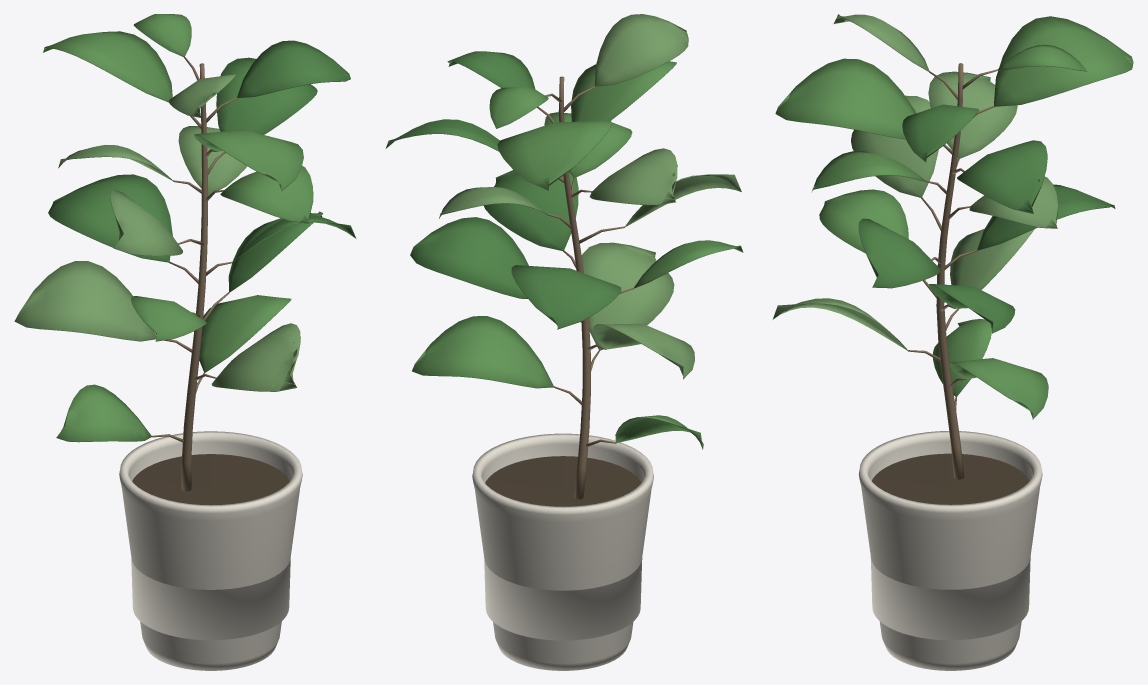
File: BroadleafTall.fbx
3 renders of one model, left to right at view 1: azimuth 30°, elevation 25°; view 2: azimuth 150°, elevation 25°; view 3: azimuth 270°, elevation 25°, orthographic.
Parts seen in each view (by area): view 1: BroadleafTall; view 2: BroadleafTall; view 3: BroadleafTall.
Boxes of the visible parts, x1=… form: BroadleafTall: x1=14, y1=14, x2=356, y2=670; BroadleafTall: x1=385, y1=14, x2=743, y2=670; BroadleafTall: x1=772, y1=14, x2=1133, y2=670.
Size of the model in its own units: 0.8625 by 1.68 by 0.9072.
